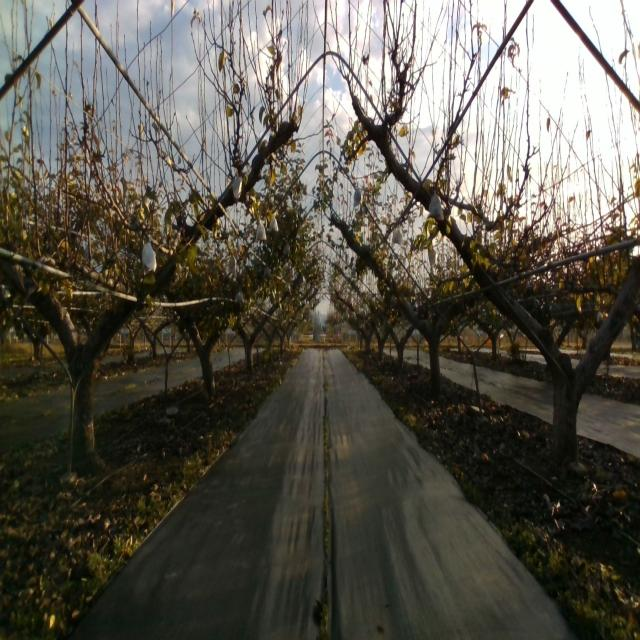pearbags: (142, 236, 157, 276), (426, 190, 444, 222), (232, 171, 242, 199), (256, 218, 266, 242)
